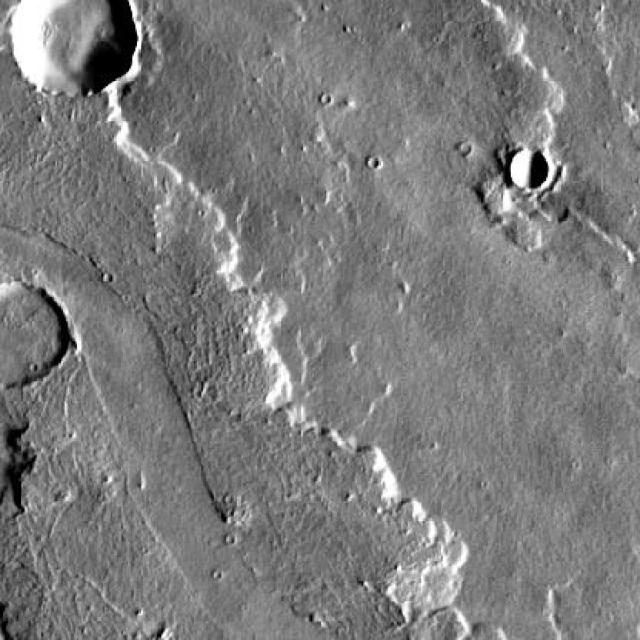crater: (0, 0, 117, 94), (486, 148, 528, 189), (614, 538, 637, 560)
